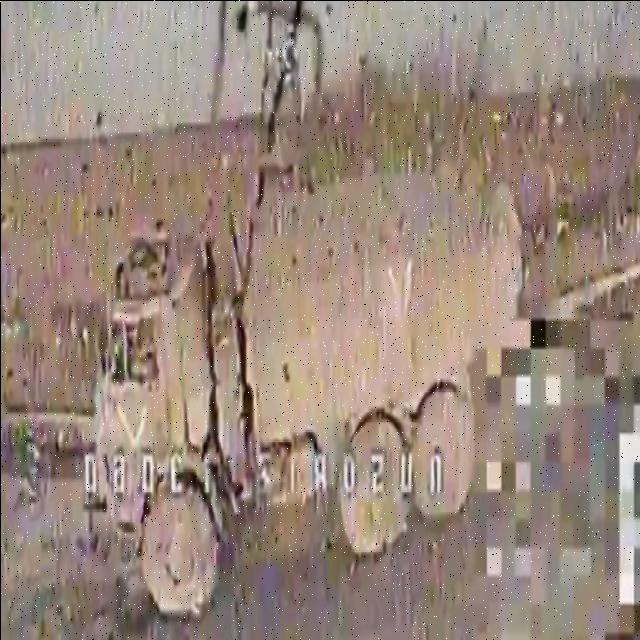TRUCK: (90, 149, 531, 618)
